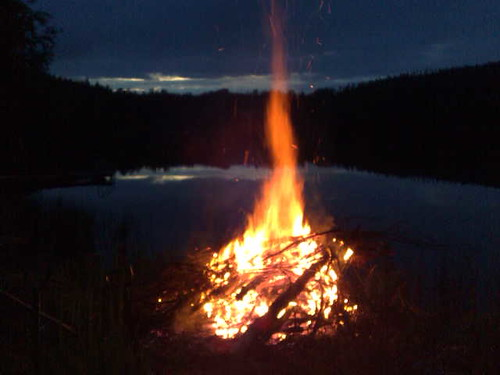fireplace: (125, 185, 411, 375)
sky: (60, 1, 500, 80)
